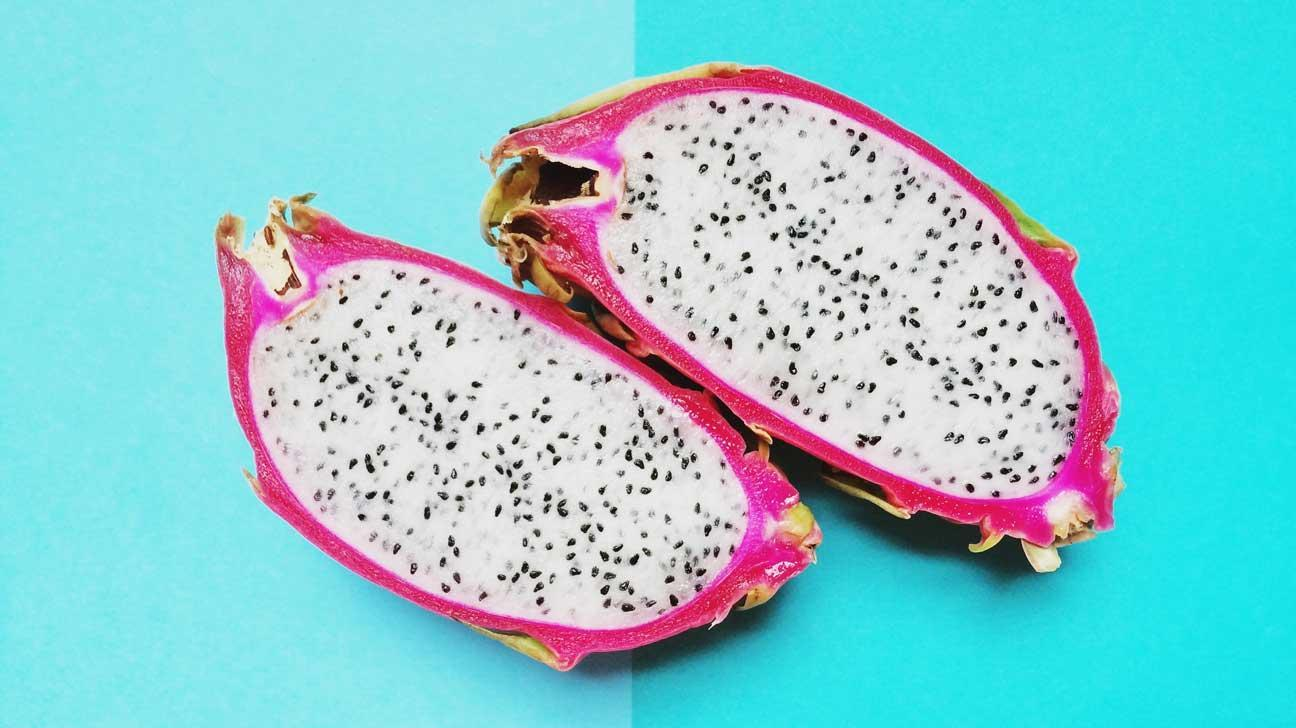dragon-fruit: (569, 74, 1104, 529), (220, 237, 773, 654)
